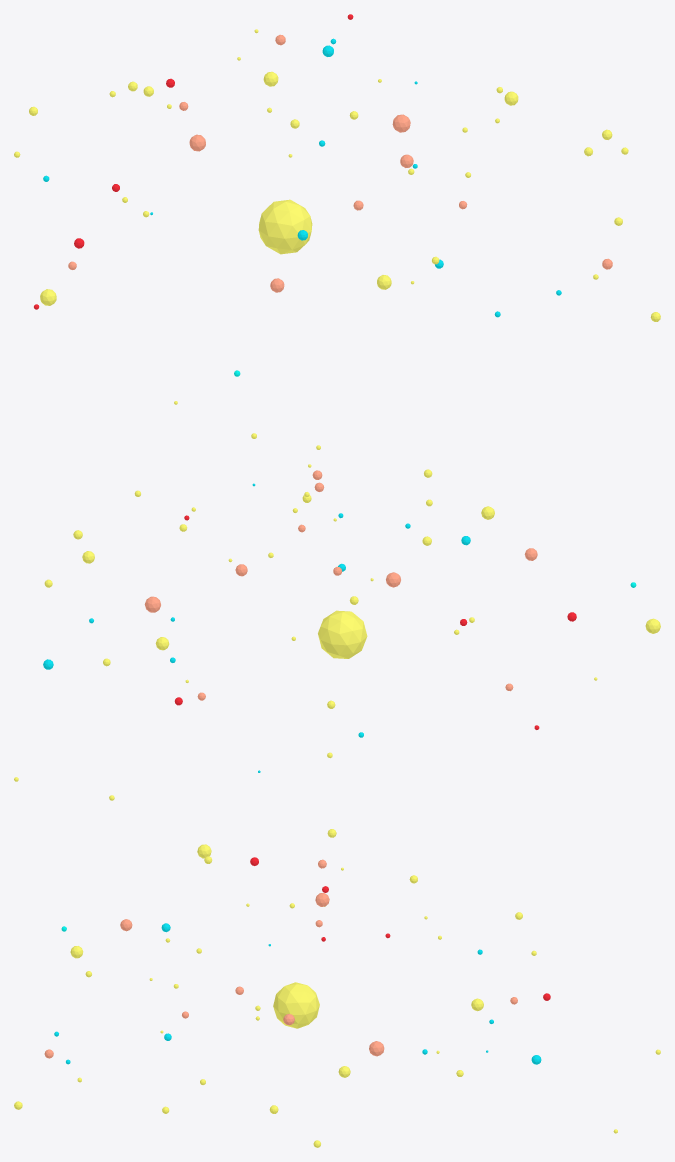
The model's file is MoonTower_Action_Cosmos.glb.
3 renders of one model, top to bottom at view 1: azimuth 30°, elevation 25°; view 2: azimuth 150°, elevation 25°; view 3: azimuth 270°, elevation 25°, orthographic. The views are drawn at different scales.
Parts seen in each view (by area): view 1: MoonTower_Action_CosmosA, MoonTower_Action_CosmosB; view 2: MoonTower_Action_CosmosA, MoonTower_Action_CosmosB; view 3: MoonTower_Action_CosmosA, MoonTower_Action_CosmosB.
Boxes of the visible parts, x1,y1,x2,y2 form: MoonTower_Action_CosmosA: [29, 38, 628, 376]; MoonTower_Action_CosmosB: [14, 14, 660, 404]; MoonTower_Action_CosmosA: [43, 470, 636, 737]; MoonTower_Action_CosmosB: [14, 433, 660, 800]; MoonTower_Action_CosmosA: [44, 857, 541, 1084]; MoonTower_Action_CosmosB: [14, 829, 660, 1147].
Size of the model in its own units: 11.83 by 4.48 by 12.74.
1 material, 1 textured.
